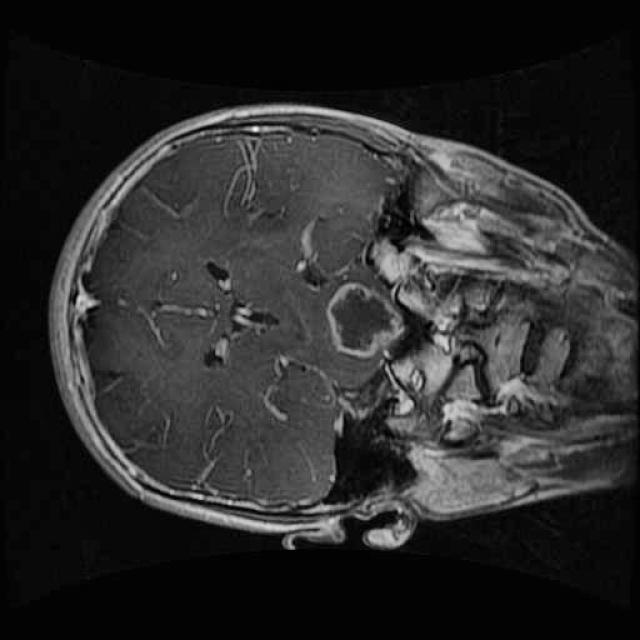Non-Tumor: (316, 264, 416, 370)
